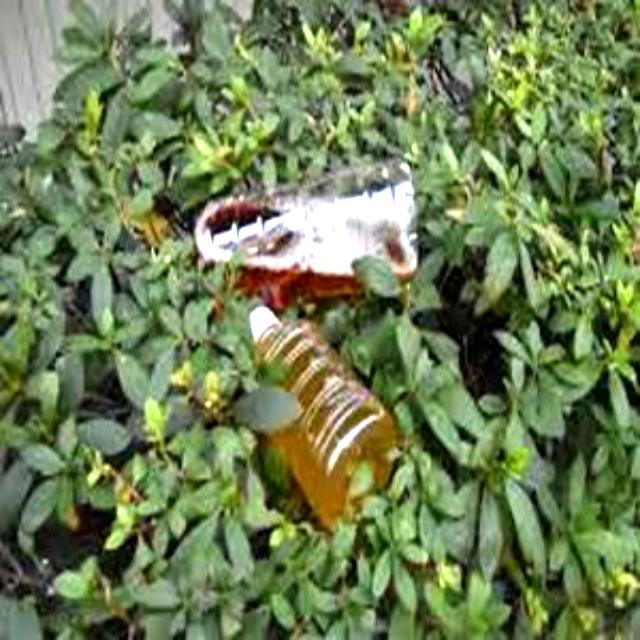Plastic: (247, 304, 398, 520), (192, 156, 422, 288)
